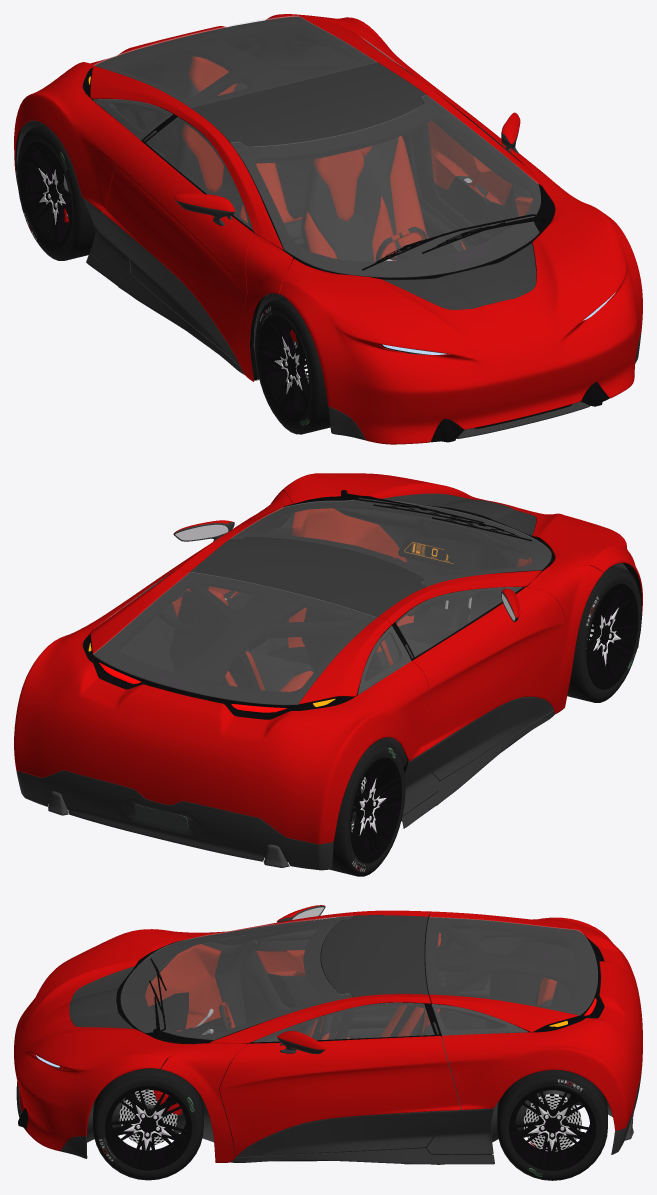
Rendered from coupe.glb.
3 renders of one model, top to bottom at view 1: azimuth 30°, elevation 25°; view 2: azimuth 150°, elevation 25°; view 3: azimuth 270°, elevation 25°, orthographic. The views are drawn at different scales.
Parts seen in each view (by area): view 1: panel_hood, glass_BodyWindshield, panel_BodyRearwindow, panel_BodyDoorRColor1, panel_bumper_rear, panel_BodyRoofPanel, BodyWindshieldGasket, InteriorSeatsColor1, panel_BodyPillars, InteriorSeatsColor2, InteriorPillar, InteriorRearHatch (+23 smaller); view 2: panel_bumper_rear, panel_BodyRearwindow, glass_BodyWindshield, panel_BodyPanelsColor2, panel_BodyDoorRColor1, panel_BodyRoofPanel, panel_hood, InteriorRearHatch, panel_BodyPillars, InteriorPillar, InteriorDashMid, BodyWindshieldGasket (+23 smaller); view 3: panel_bumper_rear, glass_BodyWindshield, panel_BodyDoorLColor1, panel_hood, panel_BodyRearwindow, panel_BodyRoofPanel, panel_BodyPillars, panel_BodyDoorLColor2, BodyWindshieldGasket, panel_BodyPanelsColor2, WheelFrontLRim, WheelRearLRim (+24 smaller).
Part boxes in pixels (left/top/right/bottom): panel_hood: left=279, top=196, right=642, bottom=444; glass_BodyWindshield: left=230, top=95, right=540, bottom=277; panel_BodyRearwindow: left=93, top=16, right=376, bottom=107; panel_BodyDoorRColor1: left=103, top=141, right=253, bottom=365; panel_bumper_rear: left=14, top=14, right=422, bottom=212; panel_BodyRoofPanel: left=191, top=62, right=425, bottom=146; BodyWindshieldGasket: left=231, top=96, right=555, bottom=279; InteriorSeatsColor1: left=182, top=56, right=465, bottom=261; panel_BodyPillars: left=174, top=58, right=589, bottom=381; InteriorSeatsColor2: left=177, top=77, right=463, bottom=261; InteriorPillar: left=152, top=36, right=428, bottom=167; InteriorRearHatch: left=92, top=17, right=376, bottom=114; panel_bumper_rear: left=14, top=568, right=429, bottom=844; panel_BodyRearwindow: left=93, top=572, right=376, bottom=704; glass_BodyWindshield: left=231, top=498, right=551, bottom=586; panel_BodyPanelsColor2: left=16, top=642, right=638, bottom=870; panel_BodyDoorRColor1: left=412, top=587, right=566, bottom=749; panel_BodyRoofPanel: left=190, top=536, right=425, bottom=617; panel_hood: left=280, top=473, right=642, bottom=615; InteriorRearHatch: left=94, top=572, right=389, bottom=709; panel_BodyPillars: left=178, top=490, right=603, bottom=713; InteriorPillar: left=175, top=573, right=420, bottom=683; InteriorDashMid: left=334, top=504, right=532, bottom=630; BodyWindshieldGasket: left=232, top=498, right=555, bottom=586; panel_bumper_rear: left=429, top=911, right=642, bottom=1130; glass_BodyWindshield: left=120, top=916, right=352, bottom=1039; panel_BodyDoorLColor1: left=219, top=1036, right=460, bottom=1156; panel_hood: left=14, top=929, right=194, bottom=1151; panel_BodyRearwindow: left=425, top=917, right=597, bottom=1015; panel_BodyRoofPanel: left=321, top=915, right=428, bottom=997; panel_BodyPillars: left=161, top=910, right=430, bottom=1162; panel_BodyDoorLColor2: left=236, top=1110, right=460, bottom=1157; BodyWindshieldGasket: left=116, top=916, right=352, bottom=1044; panel_BodyPanelsColor2: left=16, top=1061, right=642, bottom=1164; WheelFrontLRim: left=105, top=1086, right=191, bottom=1170; WheelRearLRim: left=509, top=1086, right=595, bottom=1170.
Bounding box in the file's own units: 2.27 × 1.19 × 4.24.
Materials: 24 (5 with a texture image).
